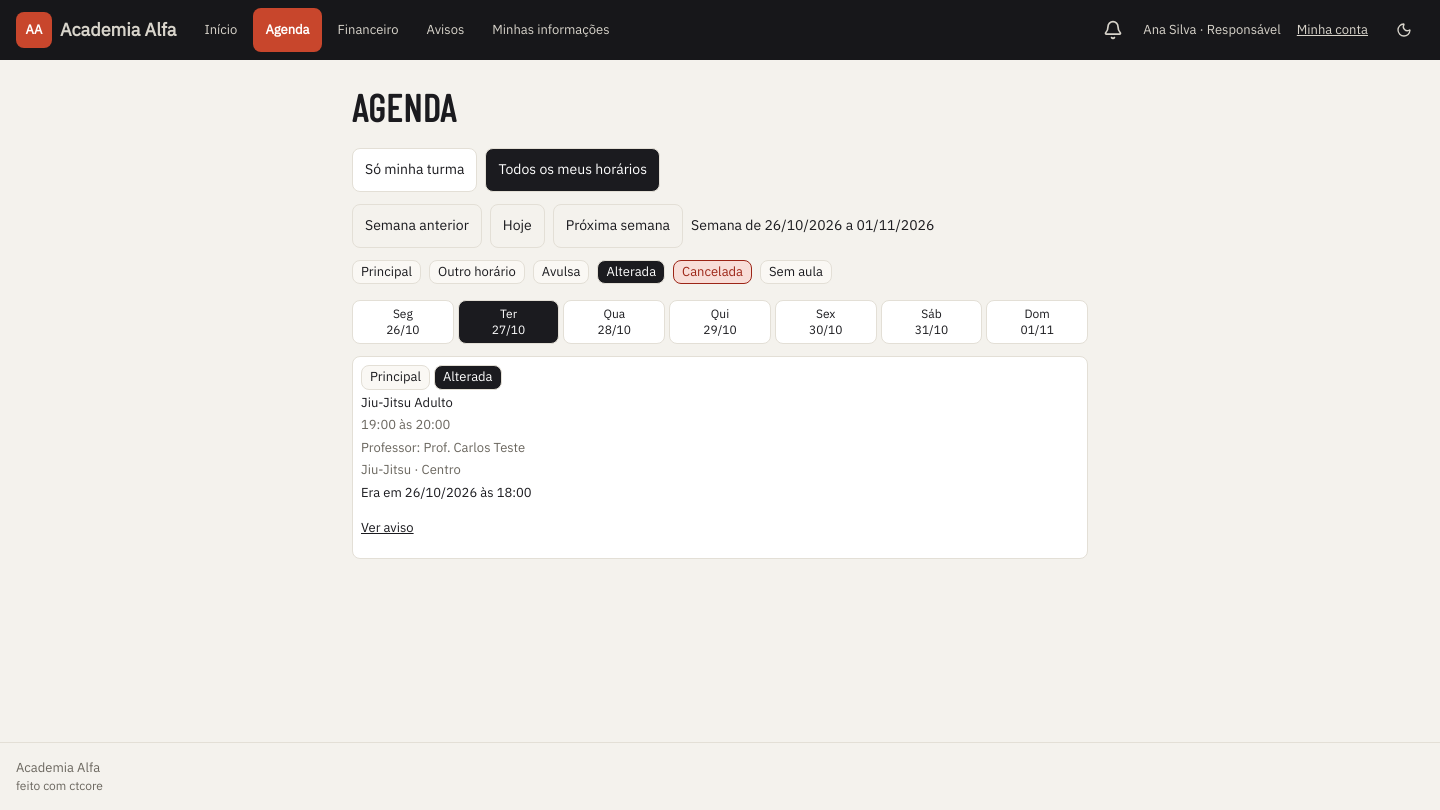
Test: PortalAgendaPage (RF-POR-04) › CA3 a CA7, CA13: no celular, lista do dia começando em hoje, com Alterada, resumo, Ver aviso, Já aconteceu, Sem aula e Cancelada com o motivo
expect the tab "Ter 27/10" is shown: met, box [458,300,559,344]
expect the 2nd text "Alterada" is shown: met, box [434,365,502,390]
Click the tab "Seg 26/10".
click(403, 322)  # box [352,300,454,344]
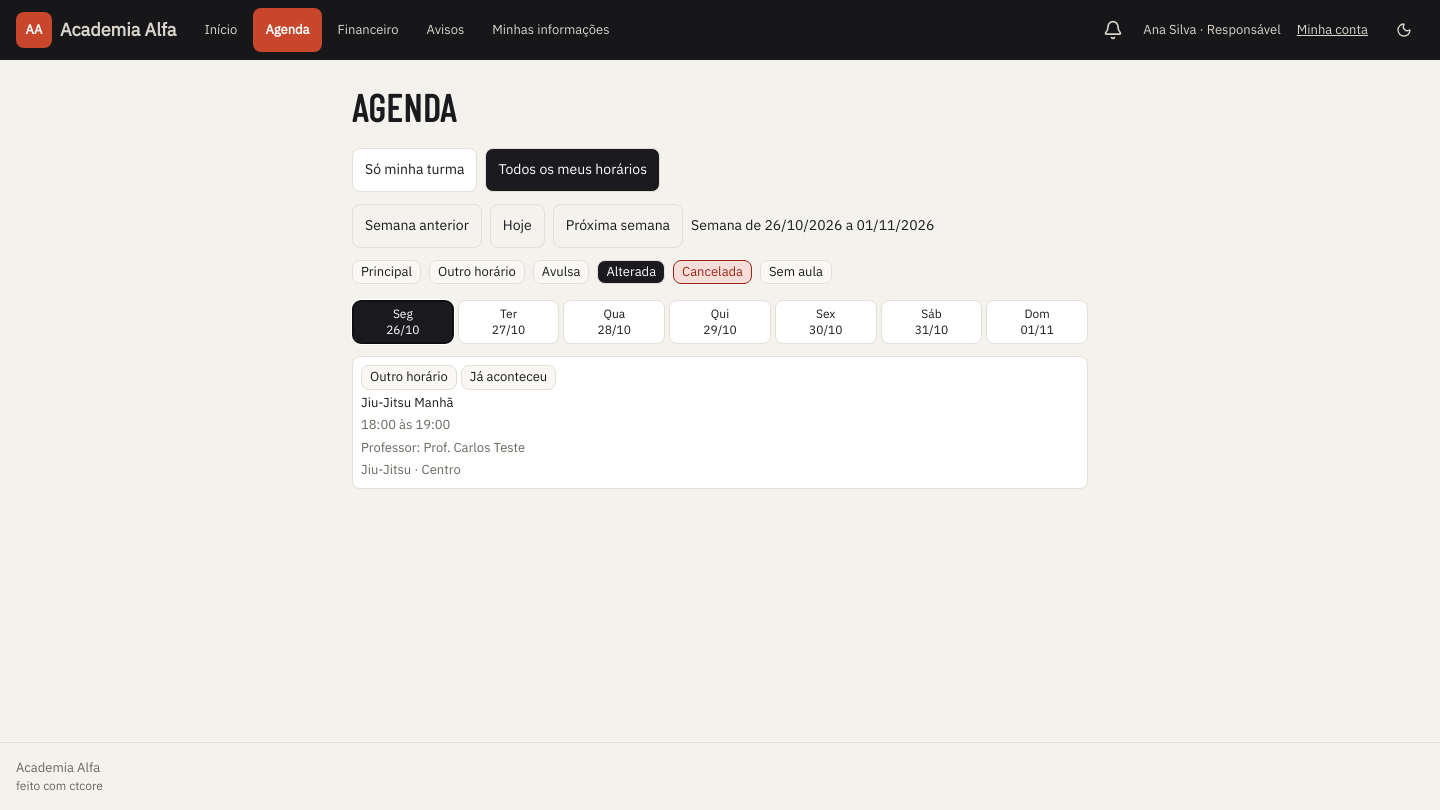
expect the text "Já aconteceu" is shown: met, box [461,365,556,390]
expect the text "Outro horário" next to "Já aconteceu" is shown: met, box [370,368,448,385]
Click the tab "Qua 28/10".
click(614, 322)  # box [563,300,665,344]
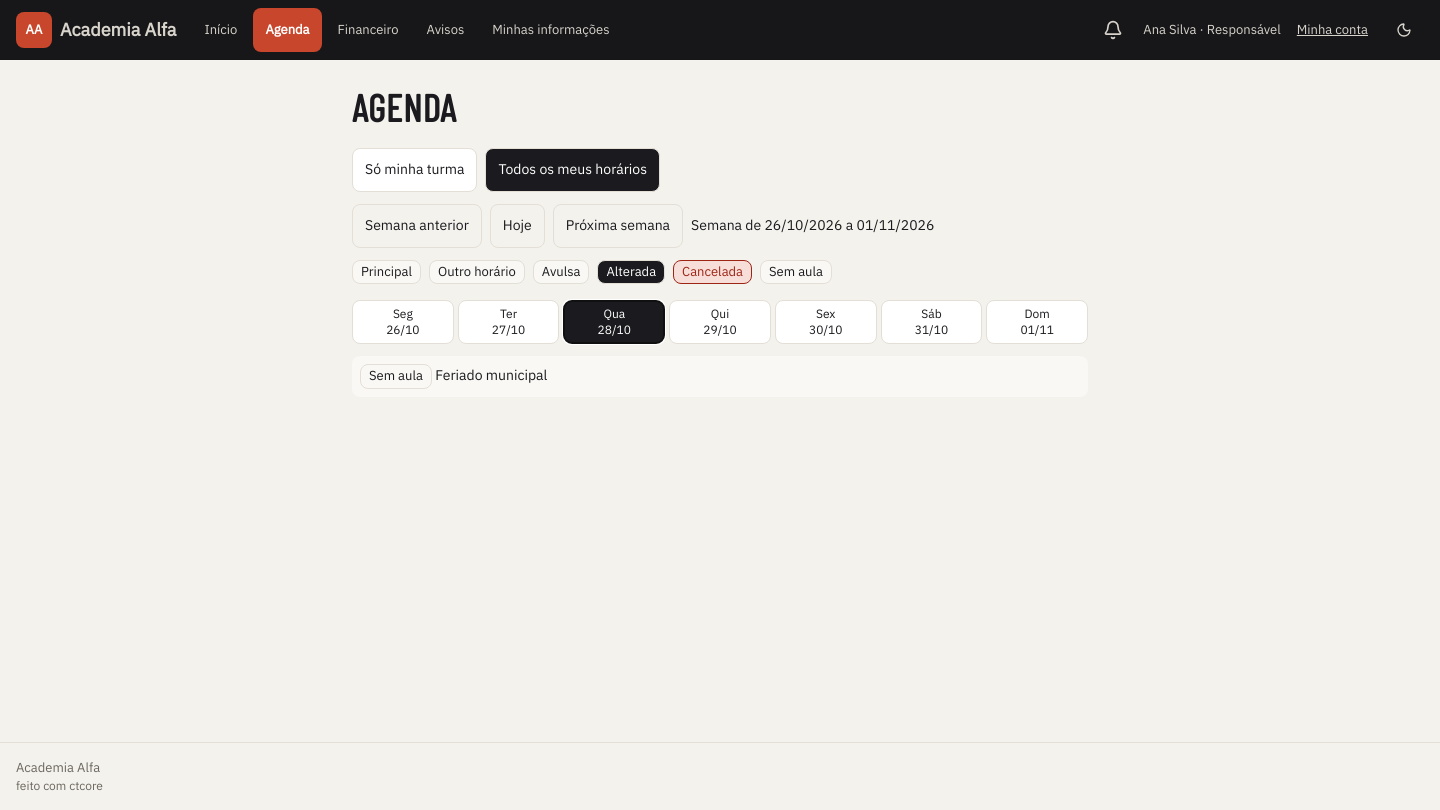
expect the text "Sem aula" next to "Feriado municipal" is shown: met, box [369,367,423,384]
expect the text "Feriado municipal" is shown: met, box [435,366,547,384]
Click the tab "Qui 29/10".
click(720, 322)  # box [669,300,771,344]
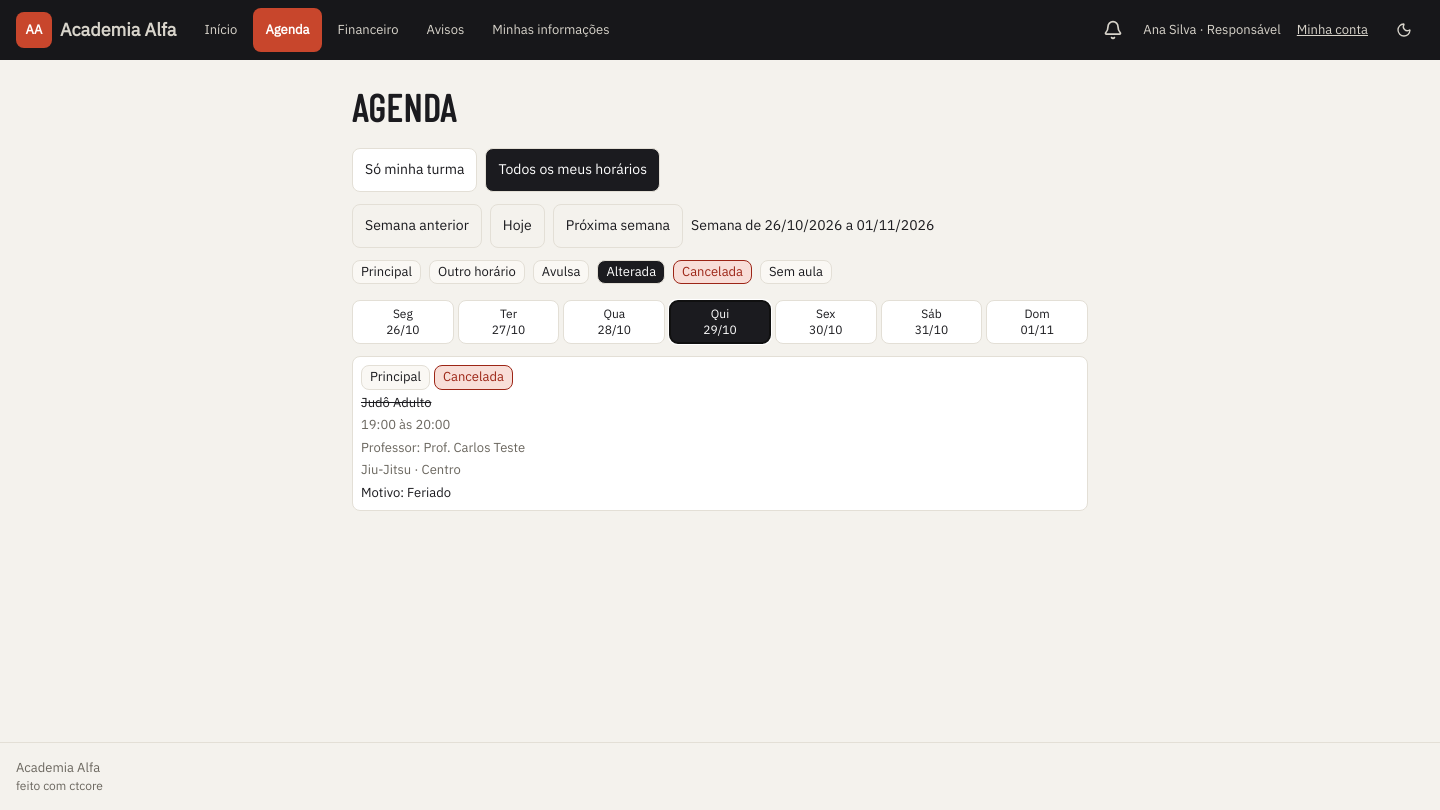
expect the link "Ver aviso" is not shown: met
expect the 2nd text "Cancelada" is shown: met, box [434,365,513,390]
expect the text "Motivo: Feriado" is shown: met, box [361,484,451,501]
Click the tab "Sex 30/10".
click(826, 322)  # box [775,300,876,344]
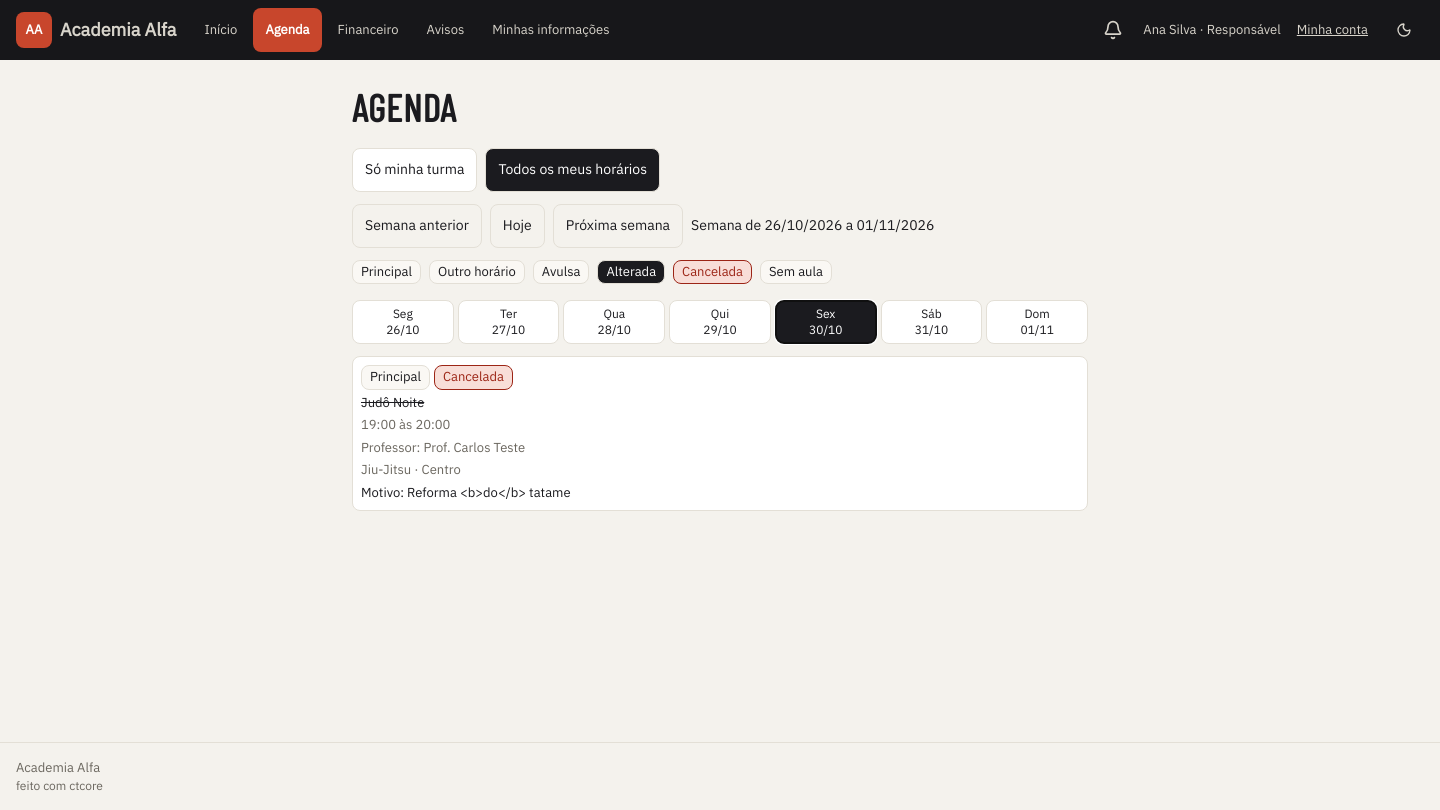
expect the text "Motivo: Reforma <b>do</b> tatame" is shown: met, box [361,484,571,501]
Click the tab "Sáb 31/10".
click(931, 322)  # box [881,300,982,344]
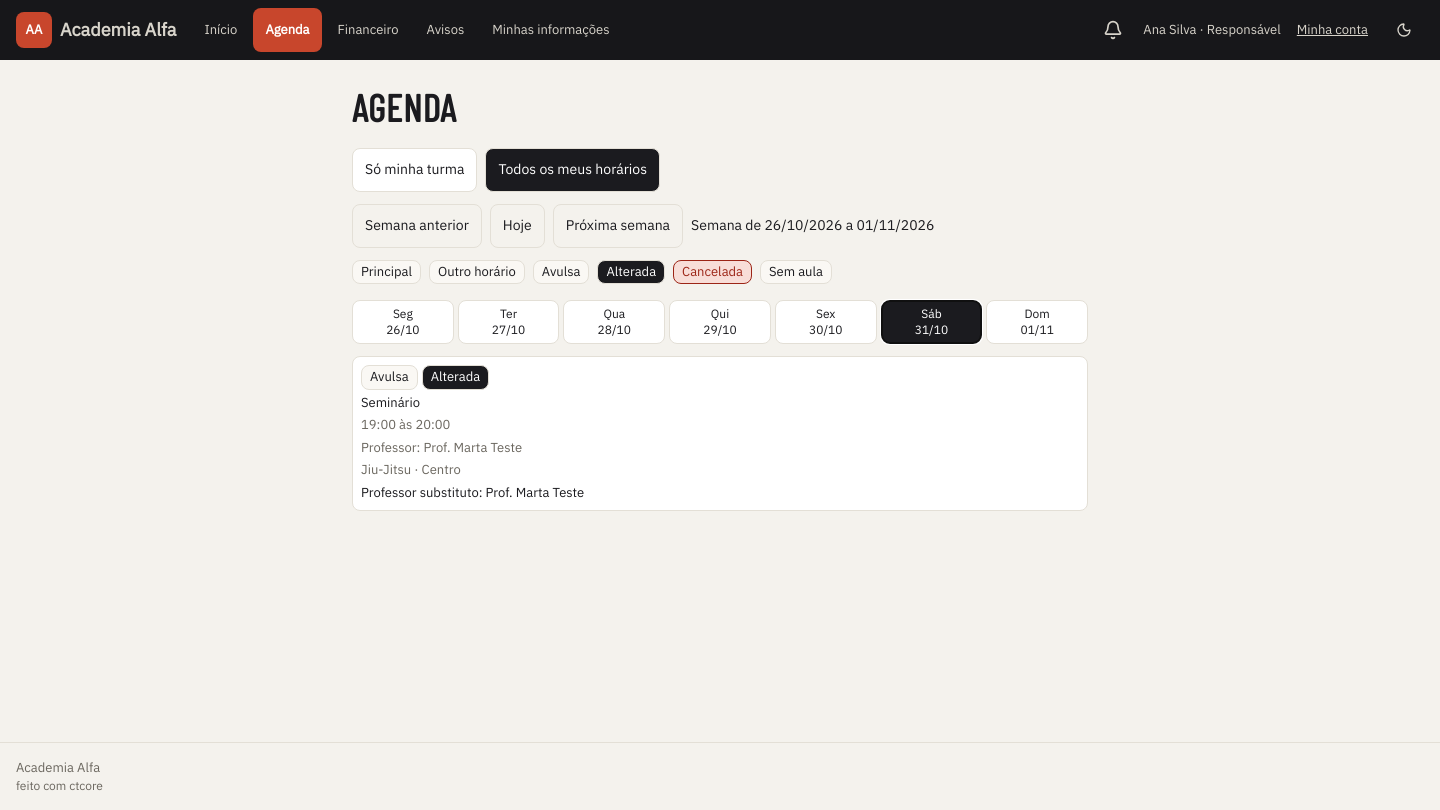
expect the 2nd text "Avulsa" is shown: met, box [361,365,418,390]
expect the text "Professor substituto: Prof. Marta Teste" is shown: met, box [361,484,584,501]
